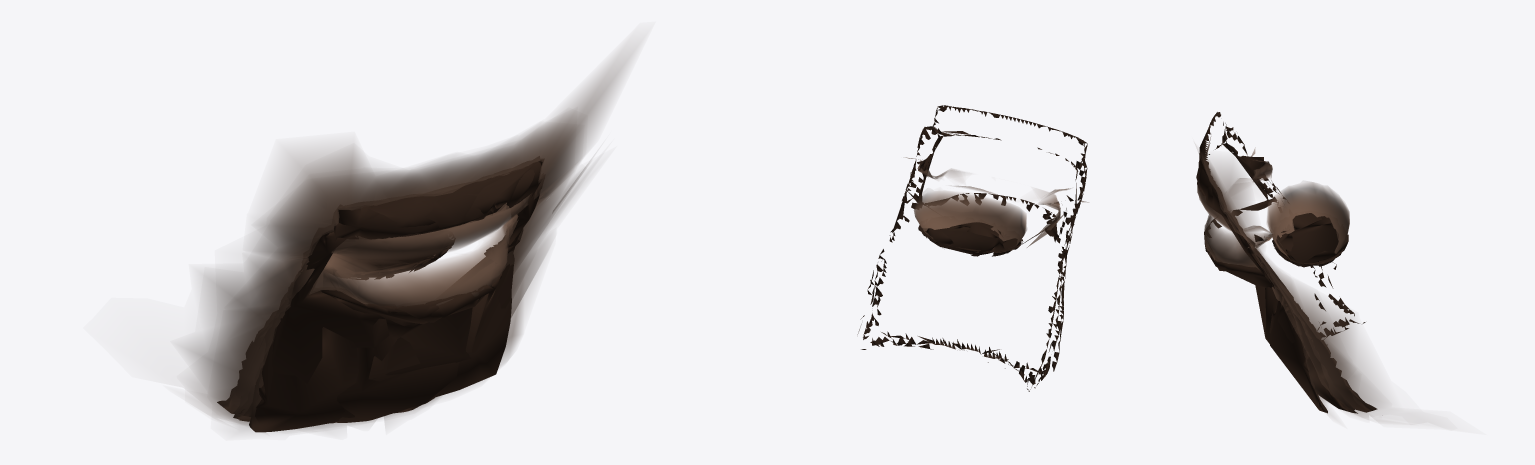
The model's file is beard_goatee.glb.
3 views of the same model, side by side, from view 1: azimuth 30°, elevation 25°; view 2: azimuth 150°, elevation 25°; view 3: azimuth 270°, elevation 25° (orthographic). The views are drawn at different scales.
Parts seen in each view (by area): view 1: BeardShadow_round, BeardShadow_square, Beard_round, BeardShadow_heart, BeardShadow_oval, Beard_square, Beard_heart, Beard_oval; view 2: Beard_heart, BeardShadow_oval, Beard_oval, BeardShadow_round, Beard_round, Beard_square, BeardShadow_square, BeardShadow_heart; view 3: BeardShadow_heart, BeardShadow_oval, BeardShadow_round, Beard_round, Beard_heart, Beard_square, BeardShadow_square, Beard_oval.
Boxes of the visible parts, box(x1,y1,x2,y2) form: BeardShadow_round: box(187, 132, 575, 416); BeardShadow_square: box(219, 120, 569, 430); Beard_round: box(233, 159, 543, 420); BeardShadow_heart: box(203, 51, 633, 421); BeardShadow_oval: box(202, 125, 574, 407); Beard_square: box(249, 162, 544, 432); Beard_heart: box(217, 194, 529, 423); Beard_oval: box(233, 169, 544, 421); Beard_heart: box(857, 106, 1087, 391); BeardShadow_oval: box(914, 159, 1068, 245); Beard_oval: box(863, 106, 1086, 385); BeardShadow_round: box(914, 158, 1069, 247); Beard_round: box(865, 105, 1087, 388); Beard_square: box(874, 106, 1085, 374); BeardShadow_square: box(914, 160, 1068, 247); BeardShadow_heart: box(905, 157, 1088, 244); BeardShadow_heart: box(1198, 143, 1380, 406); BeardShadow_oval: box(1197, 149, 1370, 411); BeardShadow_round: box(1197, 155, 1352, 403); Beard_round: box(1198, 112, 1357, 413); Beard_heart: box(1197, 112, 1377, 412); Beard_square: box(1196, 114, 1332, 413); BeardShadow_square: box(1197, 134, 1348, 412); Beard_oval: box(1199, 114, 1354, 410).
Bounding box in the file's own units: 0.1399 × 0.0969 × 0.0884.
